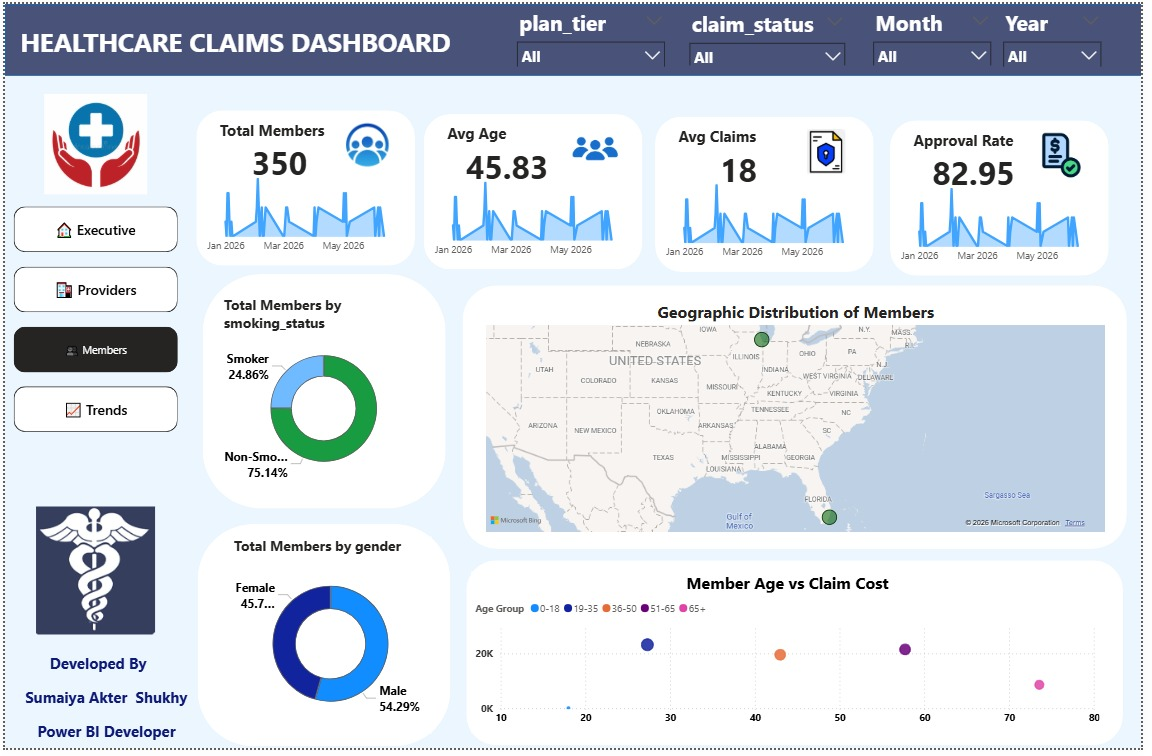

What the dashboard file says about the page in this screenshot:
{"tool":"powerbi","page":{"name":"👥 Members ","canvas":[1420,930],"ordinal":2},"visuals":[{"type":"group","id":"g1","title":"Group 6","box":[0,0,1800,927.9],"z":0},{"type":"group","id":"g2","title":"Group 1","box":[0,0,1800,788.5],"z":0,"group":"g1"},{"type":"shape","box":[239.1,133.5,273.4,194.4],"z":0,"group":"g3"},{"type":"shape","box":[523.1,138,273.4,194.4],"z":0,"group":"g8"},{"type":"shape","box":[812.3,141.2,273.4,194.4],"z":0,"group":"g9"},{"type":"shape","box":[1106.9,144.6,273.4,194.4],"z":0,"group":"g10"},{"type":"card","title":"Total Members ","fields":{"Values":["public dim_patients.Total Members"]},"box":[262.6,145.1,162.5,85.1],"z":0,"group":"g4"},{"type":"card","title":"Avg Age ","fields":{"Values":["Avg(public dim_patients.age)"]},"box":[546.6,149.6,162.5,85.1],"z":0,"group":"g5"},{"type":"card","title":"Avg Claims","fields":{"Values":["public dim_providers.Claims Per Provider"]},"box":[835.8,152.8,162.5,85.1],"z":0,"group":"g6"},{"type":"card","title":"Approval Rate","fields":{"Values":["public fact_claims.Approval Rate %"]},"box":[1130.4,156.2,162.5,85.1],"z":0,"group":"g7"},{"type":"shape","box":[246.8,337.6,304.2,293.2],"z":6,"group":"g11"},{"type":"shape","box":[240.3,650.2,316.1,277.7],"z":6,"group":"g13"},{"type":"donutChart","fields":{"Category":["public dim_patients.smoking_status"],"Y":["public dim_patients.Total Members"]},"box":[269,364.3,259.7,238.7],"z":506,"group":"g11"},{"type":"donutChart","fields":{"Y":["public dim_patients.Total Members"],"Category":["public dim_patients.gender"]},"box":[281.2,665.1,251.6,246.1],"z":506,"group":"g13"},{"type":"group","id":"g3","title":"Group 3","box":[239.1,133.5,273.4,194.4],"z":1000,"group":"g1"},{"type":"group","id":"g4","title":"Group 2","box":[246.5,145.1,258.1,176.5],"z":1000,"group":"g3"},{"type":"group","id":"g5","title":"Group 2","box":[530.5,149.6,258.1,176.5],"z":1000,"group":"g8"},{"type":"group","id":"g6","title":"Group 2","box":[819.7,152.8,258.1,176.5],"z":1000,"group":"g9"},{"type":"group","id":"g7","title":"Group 2","box":[1114.3,156.2,258.1,176.5],"z":1000,"group":"g10"},{"type":"areaChart","fields":{"Y":["public fact_claims.Total Claims"],"Category":["Calendar.Date.Variation.Date Hierarchy.Year","Calendar.Date.Variation.Date Hierarchy.Quarter","Calendar.Date.Variation.Date Hierarchy.Month","Calendar.Date.Variation.Date Hierarchy.Day"]},"box":[246.5,206.1,258.1,115.6],"z":1000,"group":"g4"},{"type":"areaChart","fields":{"Y":["public fact_claims.Total Claims"],"Category":["Calendar.Date.Variation.Date Hierarchy.Year","Calendar.Date.Variation.Date Hierarchy.Quarter","Calendar.Date.Variation.Date Hierarchy.Month","Calendar.Date.Variation.Date Hierarchy.Day"]},"box":[530.5,210.6,258.1,115.6],"z":1000,"group":"g5"},{"type":"areaChart","fields":{"Y":["public fact_claims.Total Claims"],"Category":["Calendar.Date.Variation.Date Hierarchy.Year","Calendar.Date.Variation.Date Hierarchy.Quarter","Calendar.Date.Variation.Date Hierarchy.Month","Calendar.Date.Variation.Date Hierarchy.Day"]},"box":[819.7,213.8,258.1,115.6],"z":1000,"group":"g6"},{"type":"areaChart","fields":{"Y":["public fact_claims.Total Claims"],"Category":["Calendar.Date.Variation.Date Hierarchy.Year","Calendar.Date.Variation.Date Hierarchy.Quarter","Calendar.Date.Variation.Date Hierarchy.Month","Calendar.Date.Variation.Date Hierarchy.Day"]},"box":[1114.3,217.2,258.1,115.6],"z":1000,"group":"g7"},{"type":"pageNavigator","box":[10.9,252.6,205.8,284.8],"z":1000,"group":"g2"},{"type":"textbox","box":[19.7,806.6,227.9,123],"z":1000},{"type":"shape","box":[0,0,1800,89.9],"z":2000,"group":"g2"},{"type":"group","id":"g8","title":"Group 3","box":[523.1,138,273.8,193.5],"z":2000,"group":"g1"},{"type":"image","box":[425.1,150.2,56.5,55.9],"z":2000,"group":"g4"},{"type":"image","box":[709.1,154.7,56.5,55.9],"z":2000,"group":"g5"},{"type":"image","box":[998.3,157.9,56.5,55.9],"z":2000,"group":"g6"},{"type":"image","box":[1292.9,161.3,56.5,55.9],"z":2000,"group":"g7"},{"type":"textbox","box":[14.8,19.7,567.2,70.5],"z":3000,"group":"g2"},{"type":"group","id":"g9","title":"Group 3","box":[812.3,141.2,273.8,193.5],"z":3000,"group":"g1"},{"type":"group","id":"g10","title":"Group 3","box":[1106.9,144.6,275,193.3],"z":4000,"group":"g1"},{"type":"image","box":[17.7,628.6,192.2,159.9],"z":4000,"group":"g2"},{"type":"image","box":[23,112.8,180.3,125.9],"z":5000,"group":"g2"},{"type":"group","id":"g11","title":"Group 4","box":[246.8,337.6,303.2,292.7],"z":5000,"group":"g1"},{"type":"group","id":"g12","title":"Group 5","box":[572.6,351.9,829,329.2],"z":6000,"group":"g1"},{"type":"shape","box":[572.6,351.9,830.6,329.6],"z":6001,"group":"g12"},{"type":"map","title":"Geographic Distribution of Members","fields":{"Category":["public dim_patients.city"],"Size":["public dim_patients.Total Members"]},"box":[598.2,370.8,783.1,294.4],"z":6501,"group":"g12"},{"type":"group","id":"g13","title":"Group 4","box":[240.3,650.2,316.1,277.7],"z":7000,"group":"g1"},{"type":"shape","box":[575.8,695.1,821,231.1],"z":8000,"group":"g1"},{"type":"scatterChart","title":"Member Age vs Claim Cost","fields":{"Y":["public fact_claims.Total Claims Amount"],"Size":["public fact_claims.Total Claims"],"X":["Avg(public dim_patients.age)"],"Series":["public dim_patients.Age Group"]},"box":[582.3,710,790.3,201.2],"z":9000,"group":"g1"},{"type":"slicer","fields":{"Values":["Calendar.Year"]},"box":[1237.7,0,142.6,78.7],"z":9001},{"type":"slicer","fields":{"Values":["Calendar.Month"]},"box":[1075.4,0,167.2,77],"z":9002},{"type":"slicer","fields":{"Values":["public fact_claims.claim_status"]},"box":[845.9,1.6,214.8,75.4],"z":9003},{"type":"slicer","fields":{"Values":["public dim_plans.plan_tier"]},"box":[629.5,0,204.9,78.7],"z":9004}]}

Visuals, with their boxes in screenshot pixels (x1, y1, x2, y2), scaled from the page's 1420x930 canvas onto the 1152x756 screenshot:
"Group 6" group: select_region(0, 0, 1151, 754)
"Group 1" group: select_region(0, 0, 1151, 641)
shape: select_region(194, 109, 416, 267)
shape: select_region(424, 112, 646, 270)
shape: select_region(659, 115, 881, 273)
shape: select_region(898, 118, 1120, 276)
"Total Members " card: select_region(213, 118, 345, 187)
"Avg Age " card: select_region(443, 122, 575, 191)
"Avg Claims" card: select_region(678, 124, 810, 193)
"Approval Rate" card: select_region(917, 127, 1049, 196)
shape: select_region(200, 274, 447, 513)
shape: select_region(195, 529, 451, 754)
donutChart - public dim_patients.smoking_status x public dim_patients.Total Members: select_region(218, 296, 429, 490)
donutChart - public dim_patients.Total Members x public dim_patients.gender: select_region(228, 541, 432, 741)
"Group 3" group: select_region(194, 109, 416, 267)
"Group 2" group: select_region(200, 118, 409, 261)
"Group 2" group: select_region(430, 122, 640, 265)
"Group 2" group: select_region(665, 124, 874, 268)
"Group 2" group: select_region(904, 127, 1113, 270)
areaChart - public fact_claims.Total Claims x Calendar.Date.Variation.Date Hierarchy.Year: select_region(200, 168, 409, 262)
areaChart - public fact_claims.Total Claims x Calendar.Date.Variation.Date Hierarchy.Year: select_region(430, 171, 640, 265)
areaChart - public fact_claims.Total Claims x Calendar.Date.Variation.Date Hierarchy.Year: select_region(665, 174, 874, 268)
areaChart - public fact_claims.Total Claims x Calendar.Date.Variation.Date Hierarchy.Year: select_region(904, 177, 1113, 271)
pageNavigator: select_region(9, 205, 176, 437)
textbox: select_region(16, 656, 201, 755)
shape: select_region(0, 0, 1151, 73)
"Group 3" group: select_region(424, 112, 646, 269)
image: select_region(345, 122, 391, 168)
image: select_region(575, 126, 621, 171)
image: select_region(810, 128, 856, 174)
image: select_region(1049, 131, 1095, 177)
textbox: select_region(12, 16, 472, 73)
"Group 3" group: select_region(659, 115, 881, 272)
"Group 3" group: select_region(898, 118, 1121, 275)
image: select_region(14, 511, 170, 641)
image: select_region(19, 92, 165, 194)
"Group 4" group: select_region(200, 274, 446, 512)
"Group 5" group: select_region(465, 286, 1137, 554)
shape: select_region(465, 286, 1138, 554)
"Geographic Distribution of Members" map: select_region(485, 301, 1121, 541)
"Group 4" group: select_region(195, 529, 451, 754)
shape: select_region(467, 565, 1133, 753)
"Member Age vs Claim Cost" scatterChart: select_region(472, 577, 1114, 741)
slicer - Calendar.Year: select_region(1004, 0, 1120, 64)
slicer - Calendar.Month: select_region(872, 0, 1008, 63)
slicer - public fact_claims.claim_status: select_region(686, 1, 861, 63)
slicer - public dim_plans.plan_tier: select_region(511, 0, 677, 64)
